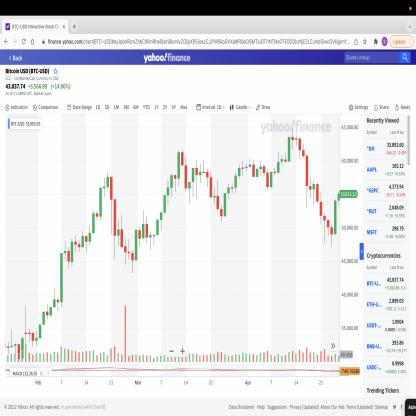Bearish: Engulfing: (106, 169, 113, 237)
Bearish: Tweezer Top: (141, 209, 149, 245), (177, 148, 184, 188)
Bullish: 3 Line Strike: (323, 198, 337, 249)
Bullish: 3 White Soldiers: (159, 178, 170, 232), (155, 194, 167, 238), (163, 172, 173, 217)
Bullish: Engulfing: (131, 228, 138, 274), (219, 191, 227, 225), (67, 236, 74, 270)
Bullish: Hammer: (184, 155, 195, 206)
Bullish: Tweezer Bottom: (266, 168, 273, 191)
